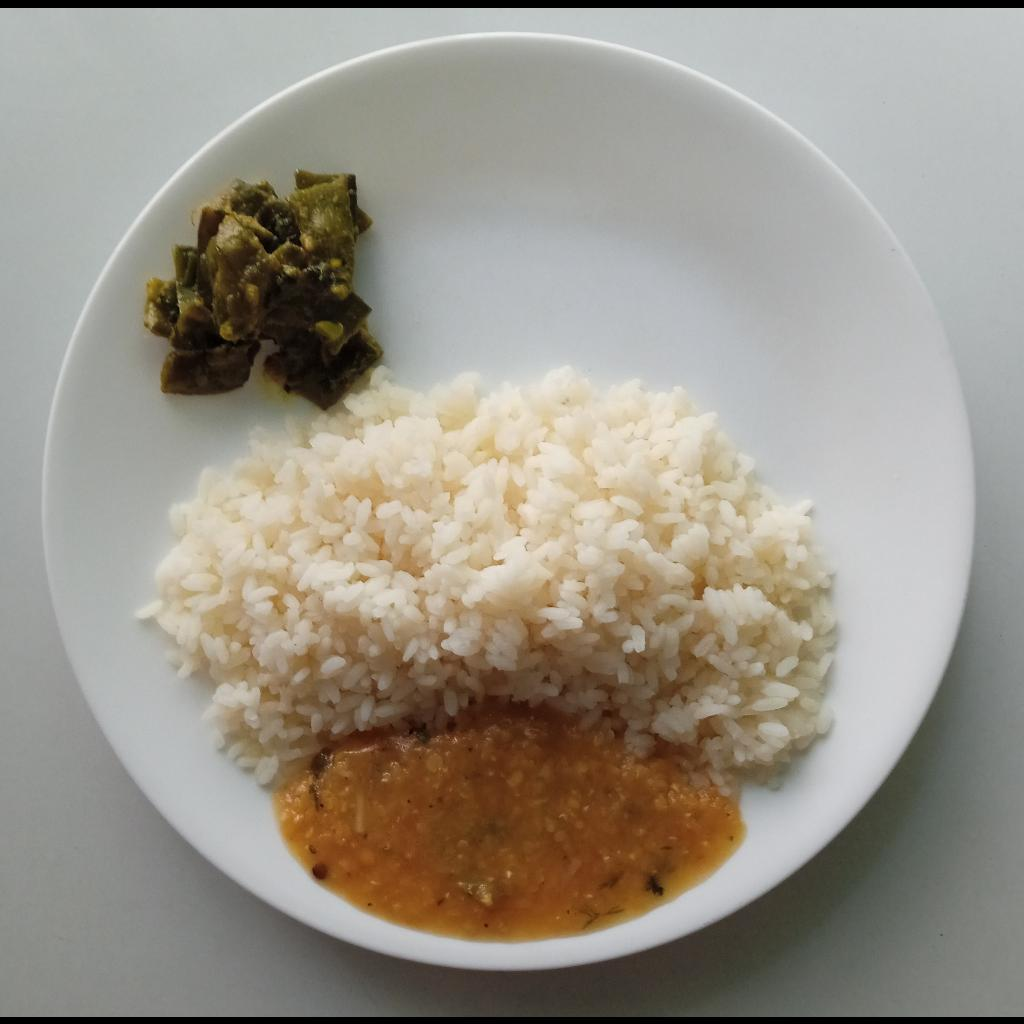daal: (269, 705, 745, 943)
rice: (139, 371, 836, 793)
shim: (142, 167, 388, 410)
